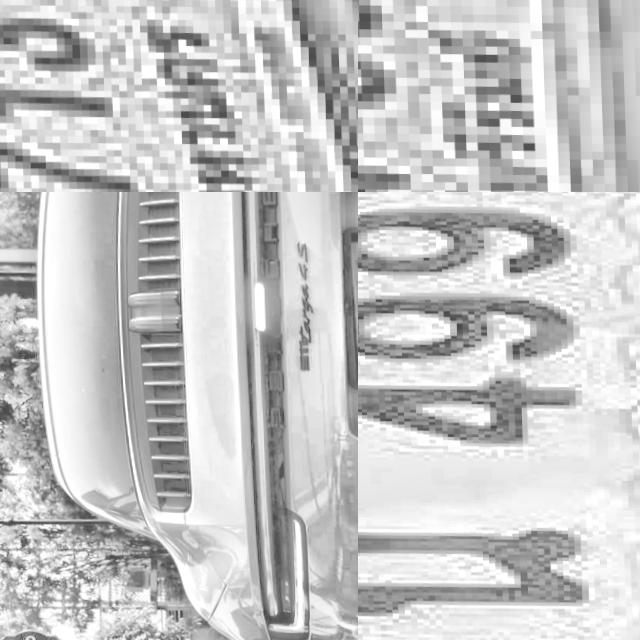license-plate: (358, 192, 640, 640), (0, 0, 358, 192), (358, 0, 640, 192), (327, 215, 358, 392)
